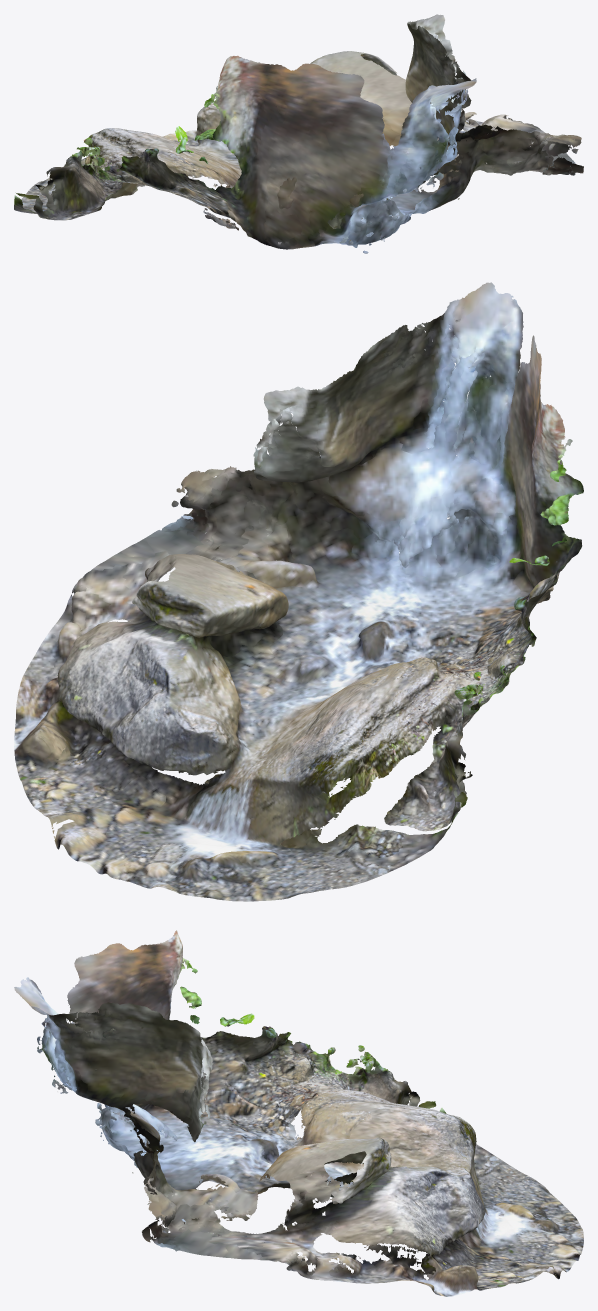
The model's file is day_243_waterfall.glb.
3 renders of one model, top to bottom at view 1: azimuth 30°, elevation 25°; view 2: azimuth 150°, elevation 25°; view 3: azimuth 270°, elevation 25°, orthographic. The views are drawn at different scales.
Parts seen in each view (by area): view 1: Object_2, Object_3; view 2: Object_2, Object_3; view 3: Object_2, Object_3.
Part boxes in pixels (box(x1,y1,x2,y2)): Object_2: box(14, 14, 583, 253); Object_3: box(16, 56, 575, 249); Object_2: box(14, 282, 583, 901); Object_3: box(50, 357, 569, 865); Object_2: box(14, 930, 583, 1296); Object_3: box(46, 958, 560, 1280).
Size of the model in its own units: 4.52 by 2.97 by 5.87.
1 material, 1 textured.
